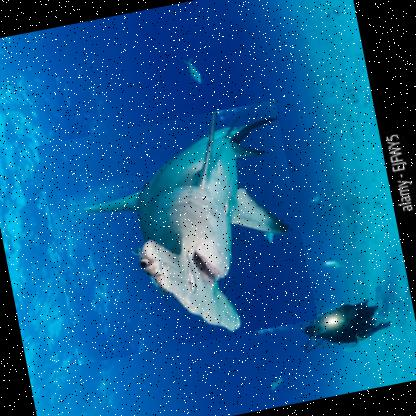hammerhead_Shark: (35, 98, 318, 364)
